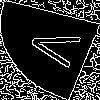V: (25, 25, 93, 72)
